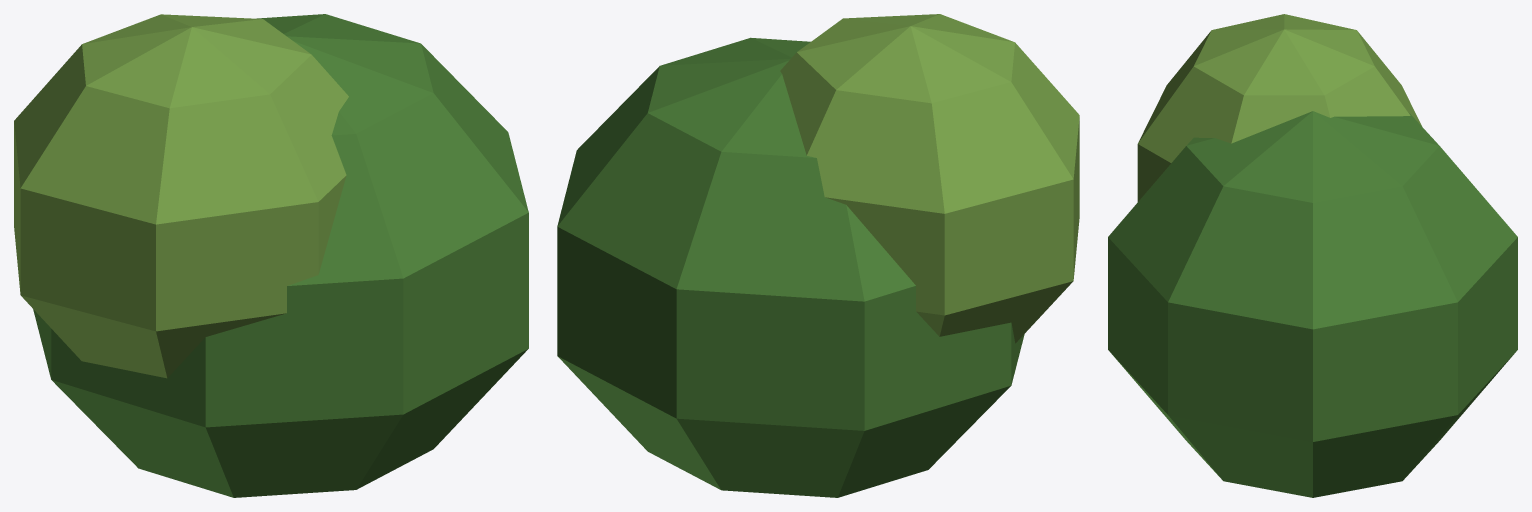
File: BushRound.obj
3 renders of one model, left to right at view 1: azimuth 30°, elevation 25°; view 2: azimuth 150°, elevation 25°; view 3: azimuth 270°, elevation 25°, orthographic. The views are drawn at different scales.
Parts seen in each view (by area): view 1: BushRound; view 2: BushRound; view 3: BushRound.
Part boxes in pixels (x1,y1,x2,y2): BushRound: (14,14,528,497); BushRound: (557,14,1079,497); BushRound: (1108,14,1517,497).
Bounding box in the file's own units: 1.68 × 1.55 × 1.43.
